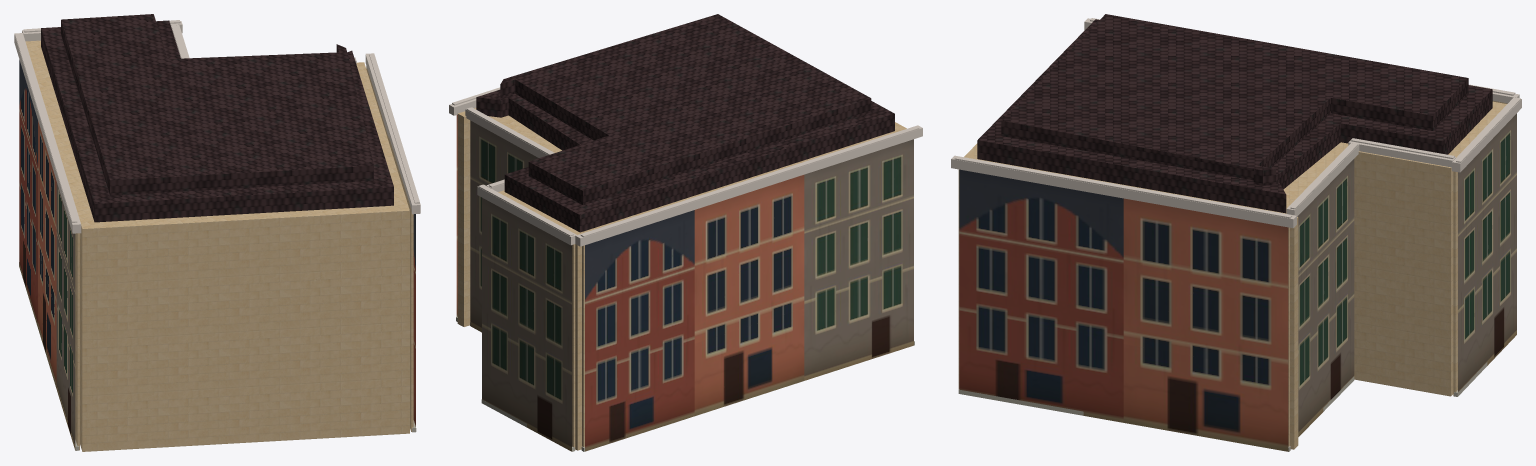
3 views of the same model, side by side, from view 1: azimuth 30°, elevation 25°; view 2: azimuth 150°, elevation 25°; view 3: azimuth 270°, elevation 25° (orthographic). The views are drawn at different scales.
Parts seen in each view (by area): view 1: bldg_180843191, bldg_180843191_roof_b, bldg_180843191_facade4, bldg_180843191_roof_a, bldg_180843191_facade0; view 2: bldg_180843191_facade4, bldg_180843191_roof_b, bldg_180843191_facade3, bldg_180843191_roof_a, bldg_180843191, bldg_180843191_facade1, bldg_180843191_facade0; view 3: bldg_180843191_facade0, bldg_180843191_roof_b, bldg_180843191, bldg_180843191_roof_a, bldg_180843191_facade3, bldg_180843191_facade1, bldg_180843191_facade2.
Part boxes in pixels (box(x1,y1,x2,y2)): bldg_180843191: box(25, 40, 409, 451); bldg_180843191_roof_b: box(61, 14, 373, 195); bldg_180843191_facade4: box(14, 33, 81, 450); bldg_180843191_roof_a: box(41, 20, 393, 222); bldg_180843191_facade0: box(365, 53, 420, 432); bldg_180843191_facade4: box(575, 125, 922, 451); bldg_180843191_roof_b: box(500, 14, 871, 204); bldg_180843191_facade3: box(477, 184, 576, 451); bldg_180843191_roof_a: box(476, 89, 894, 232); bldg_180843191: box(457, 108, 906, 450); bldg_180843191_facade1: box(465, 107, 554, 332); bldg_180843191_facade0: box(449, 87, 500, 321); bldg_180843191_facade0: box(951, 155, 1296, 451); bldg_180843191_roof_b: box(1001, 14, 1468, 185); bldg_180843191: box(958, 101, 1506, 449); bldg_180843191_roof_a: box(977, 19, 1492, 213); bldg_180843191_facade3: box(1452, 97, 1521, 396); bldg_180843191_facade1: box(1286, 143, 1359, 436); bldg_180843191_facade2: box(1348, 138, 1455, 169).
Size of the model in its own units: 18.14 by 11.05 by 21.77.
5 materials, 3 textured.
